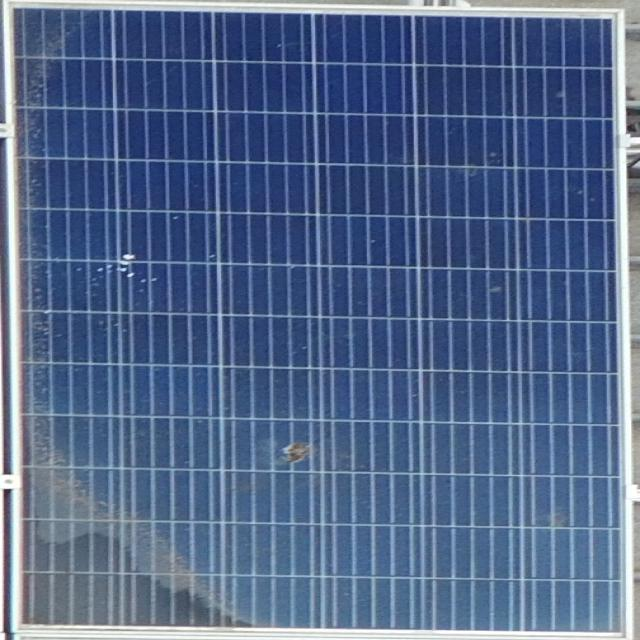Dust: (24, 403, 243, 640), (12, 4, 92, 230)
bird-droppings: (274, 434, 321, 466), (98, 252, 149, 279)
